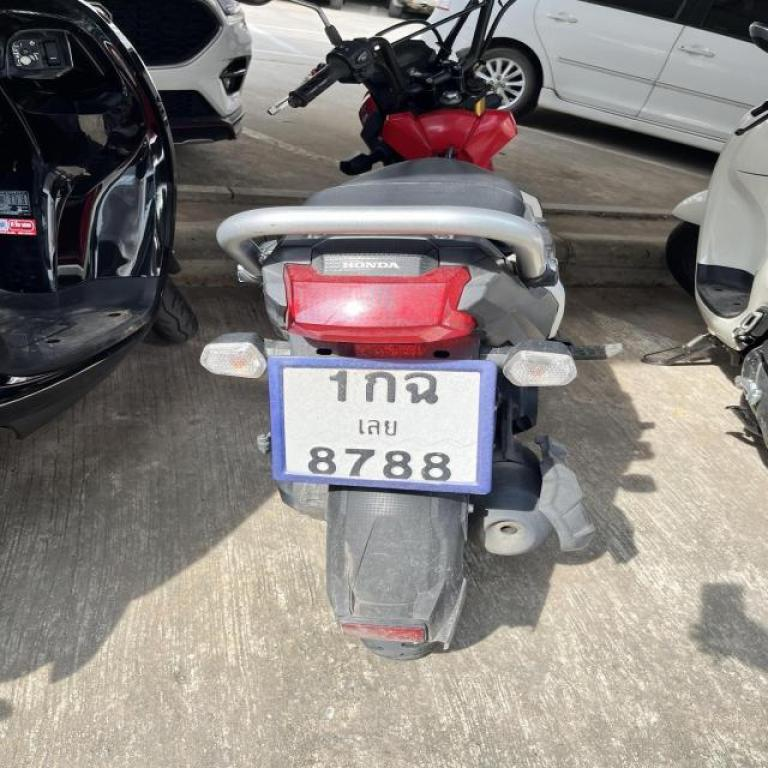license plate: (269, 358, 496, 490)
